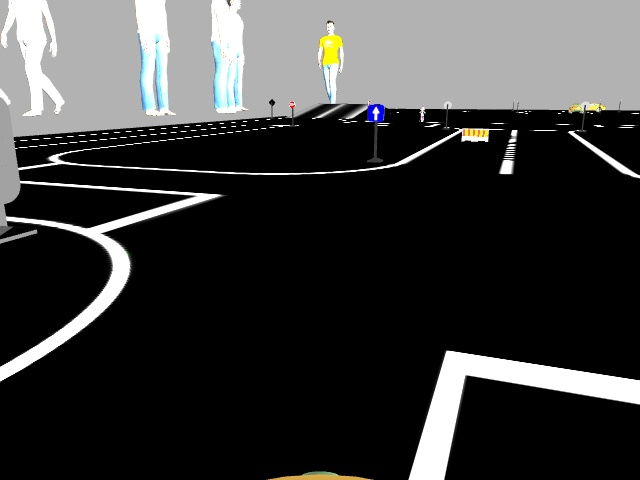ClosedRoadStand: (461, 128, 487, 141)
OneWay: (368, 105, 383, 121)
